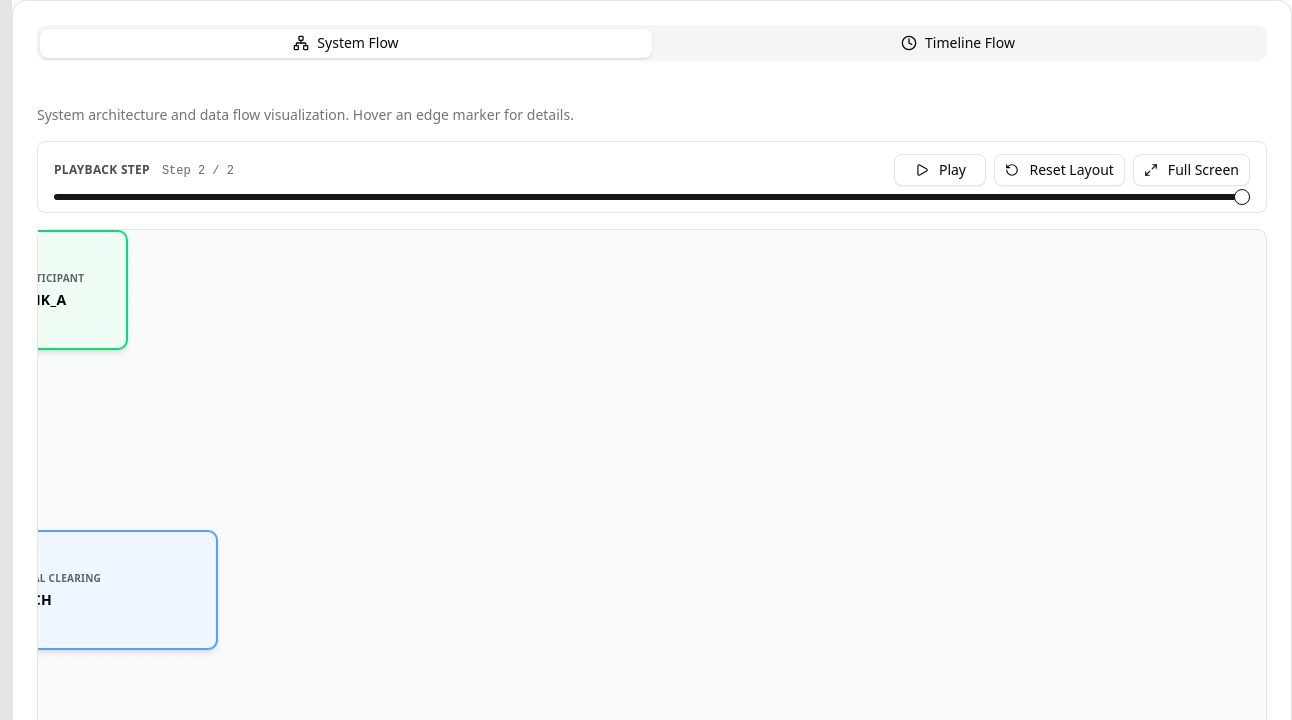
Test case: FlowVisualization › toggles playback when multiple steps are available
Click the button "Play". click: click(940, 170)
box: [894,154,986,186]
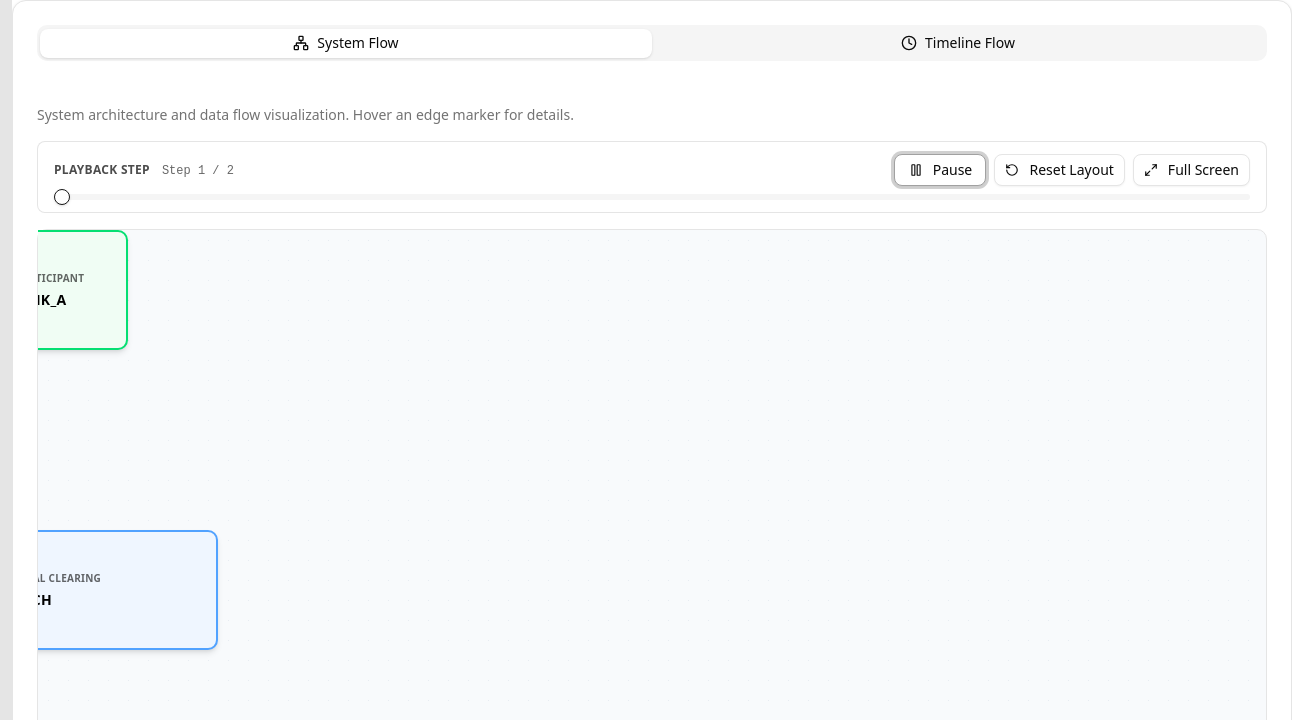
Result: the button "Pause" is shown at [894,154,986,186]
